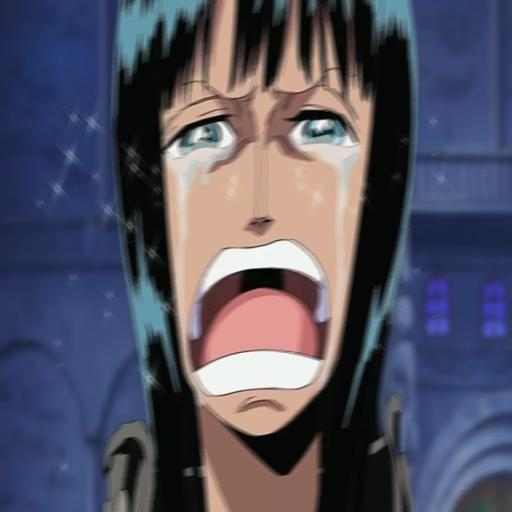NicoRobin: (108, 0, 425, 512)
